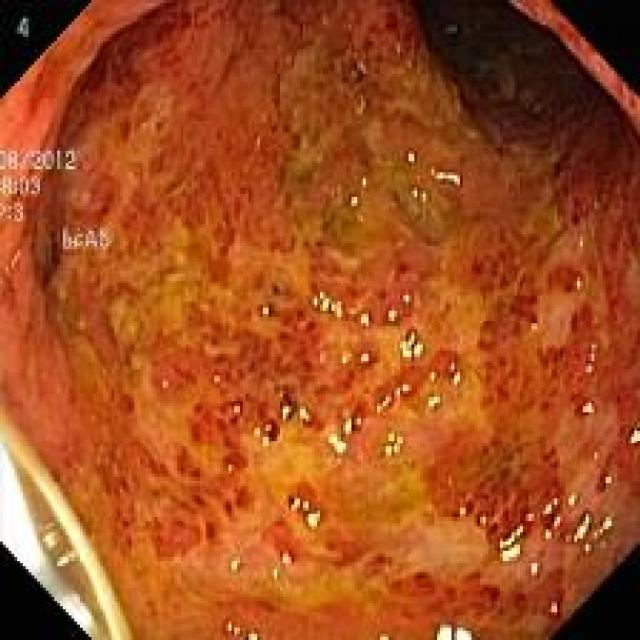ulcerative-colitis-grade-3: (6, 4, 638, 639)
